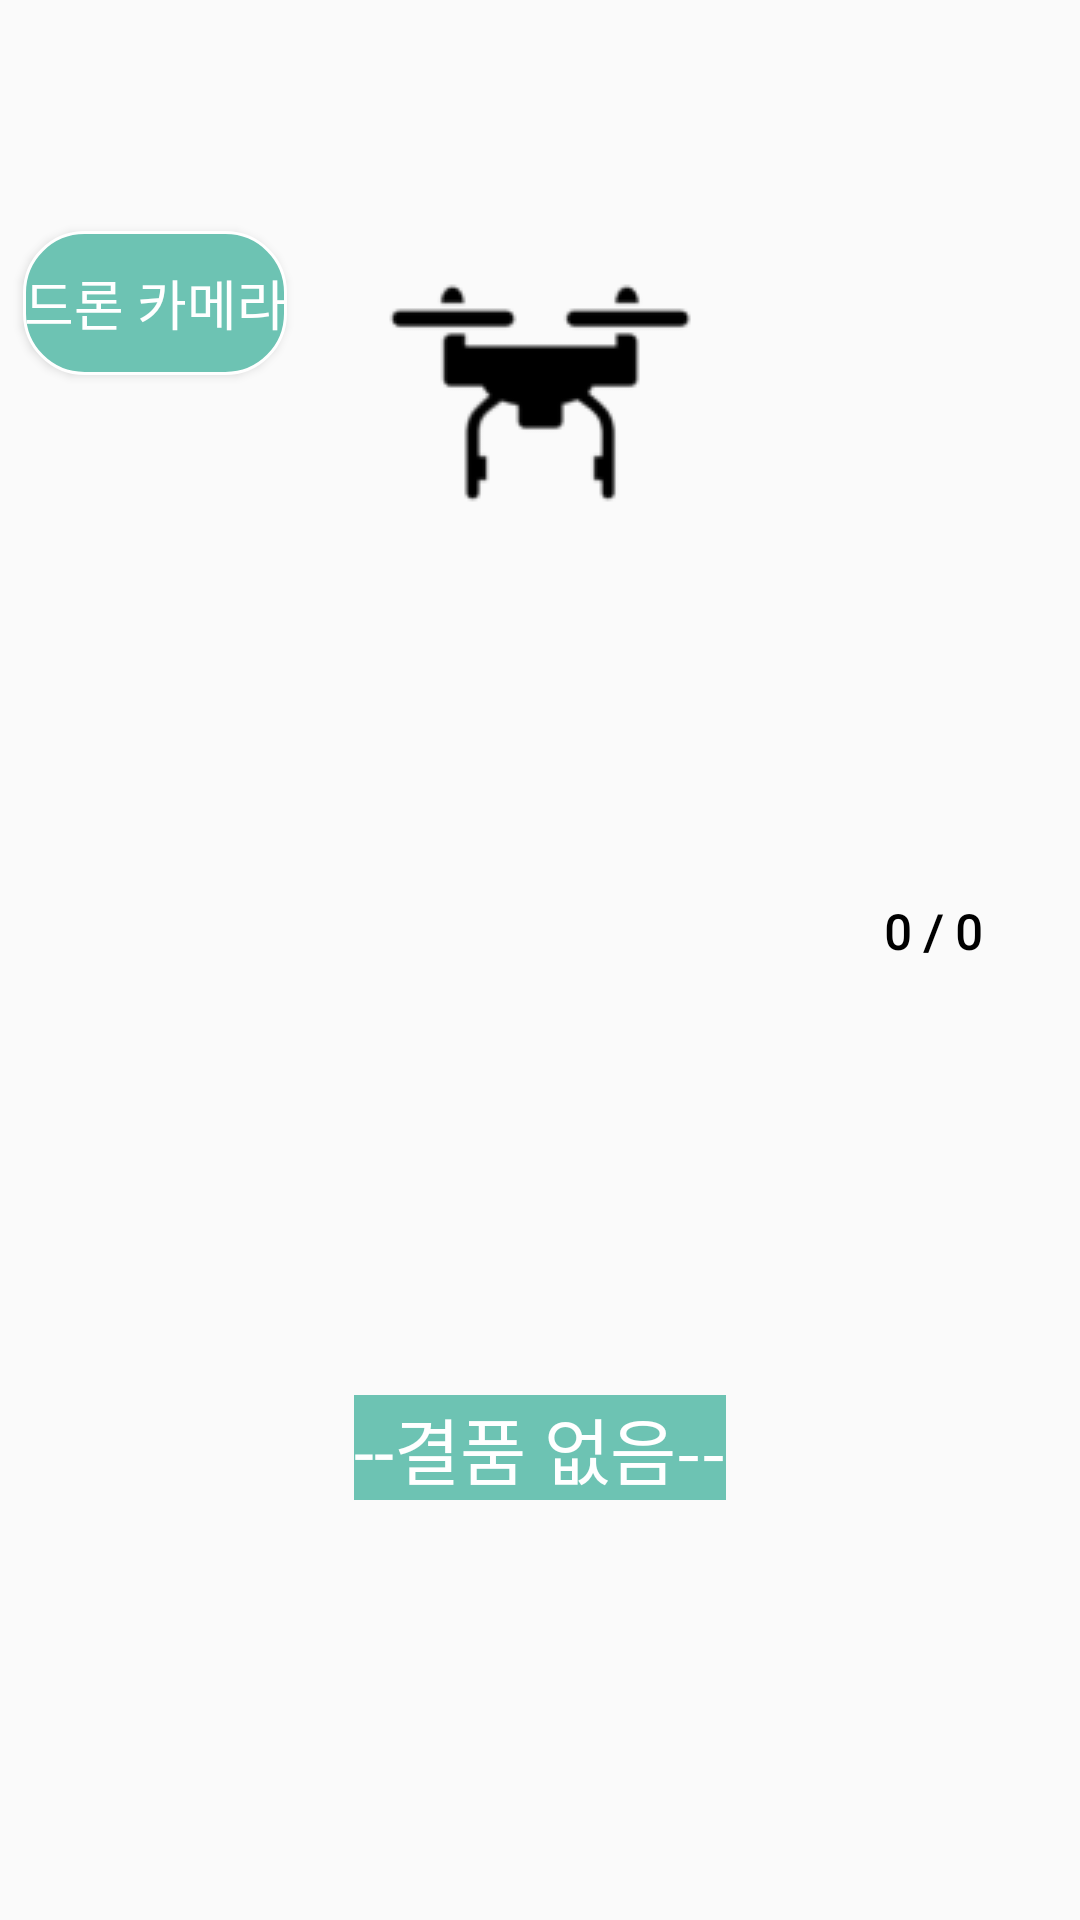

Named icons in this screenshot (1080 x 1920) and their centers, point (x, y):
drone state: point (540, 393)
